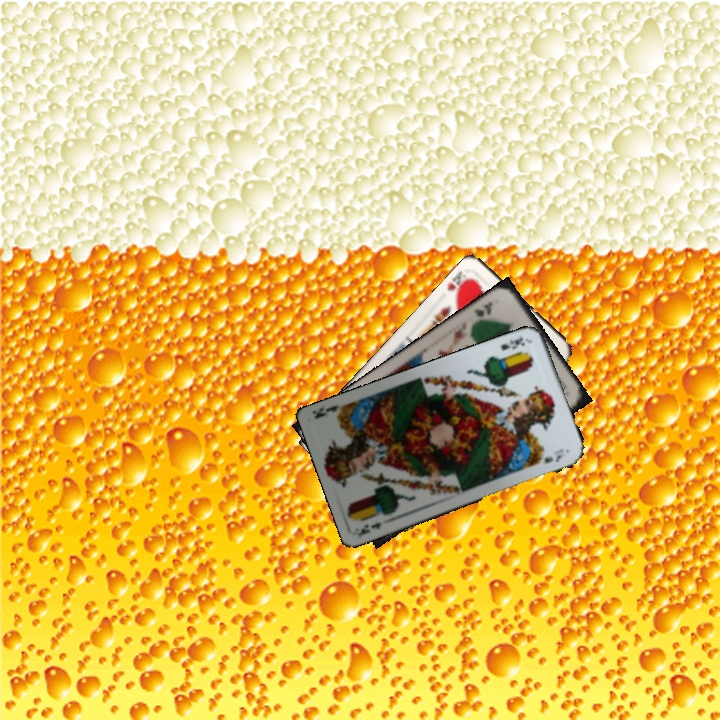EK: (497, 332, 527, 353), (355, 518, 385, 538)
GK: (469, 297, 495, 320)
HK: (443, 267, 475, 301)
